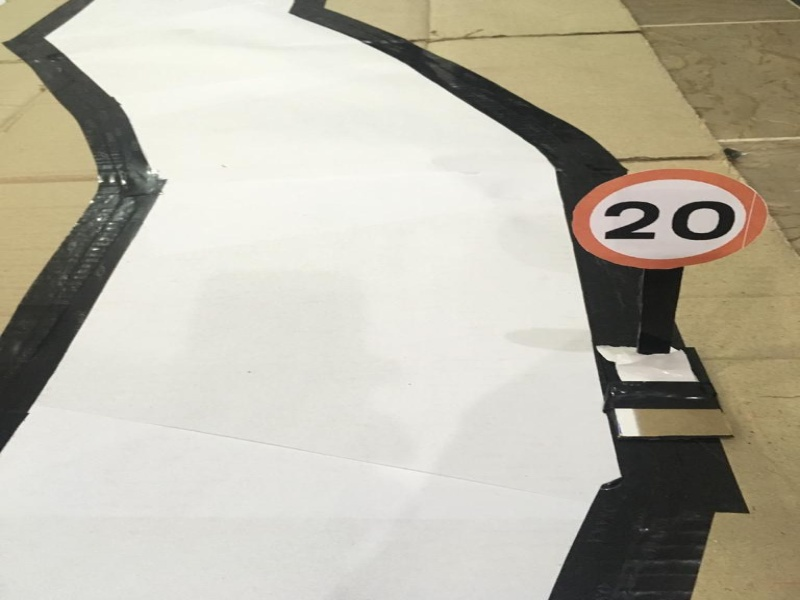Speed Limit 20: (568, 157, 771, 272)
